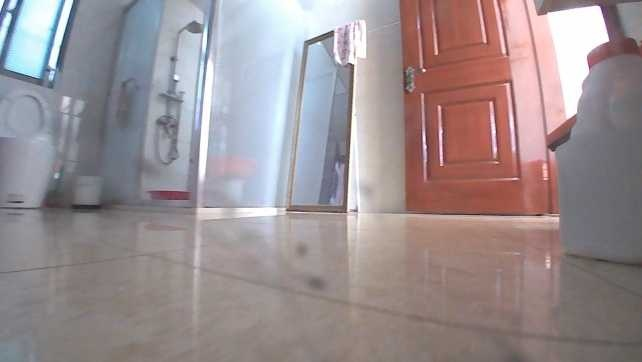door_anno: (395, 1, 568, 215)
toilet: (1, 85, 60, 212)
